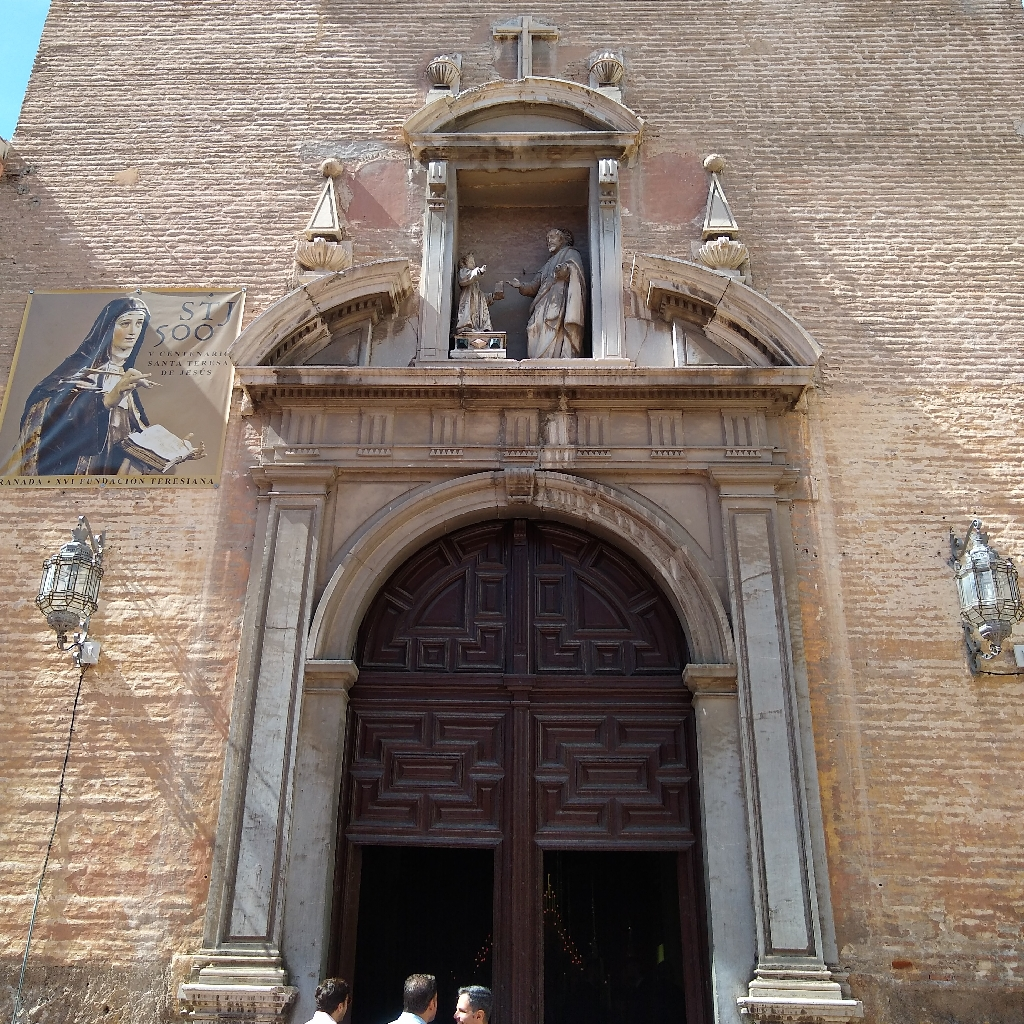arco-medio-punto: (331, 495, 714, 722)
fronton-curvo: (401, 74, 652, 145)
fronton-partido: (221, 251, 825, 392)
vano-adintelado: (423, 157, 623, 365)
